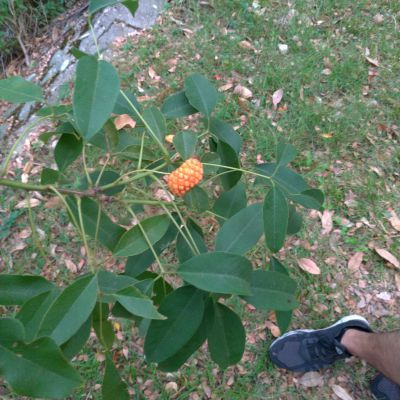eggs: (165, 152, 206, 196)
